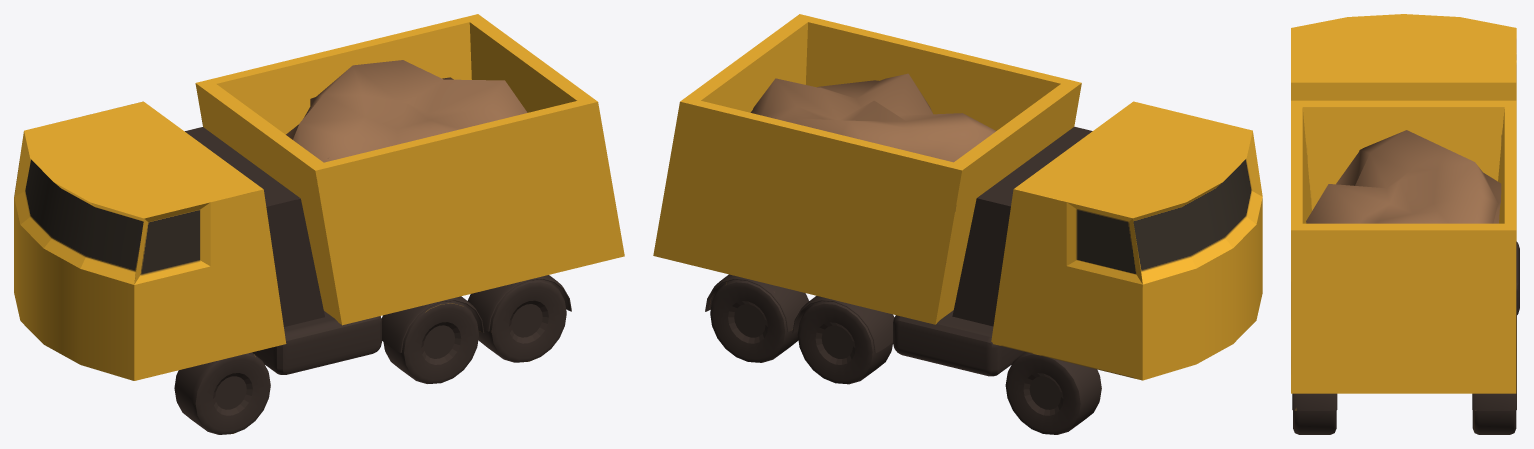
The model's file is RodKonDin.fbx.
3 renders of one model, left to right at view 1: azimuth 30°, elevation 25°; view 2: azimuth 150°, elevation 25°; view 3: azimuth 270°, elevation 25°, orthographic. The views are drawn at different scales.
Parts seen in each view (by area): view 1: RodKonDin; view 2: RodKonDin; view 3: RodKonDin.
Boxes of the visible parts, left/top/right/bottom form: RodKonDin: left=14, top=14, right=624, bottom=434; RodKonDin: left=653, top=14, right=1262, bottom=434; RodKonDin: left=1291, top=14, right=1519, bottom=434.
Bounding box in the file's own units: 12.78 × 5.8 × 5.18.
